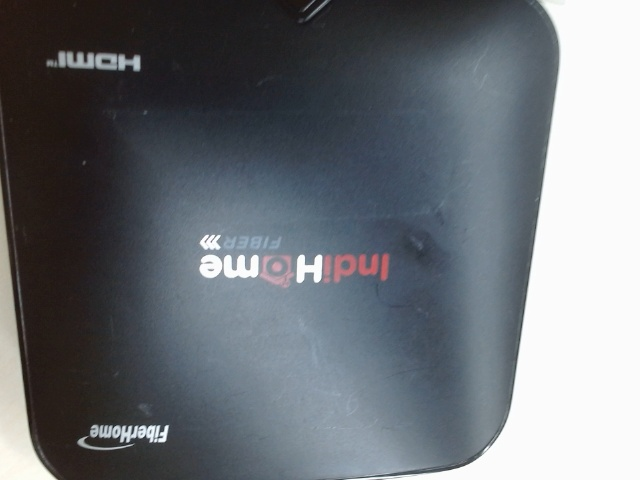AF_IndiHome: (183, 226, 396, 292)
